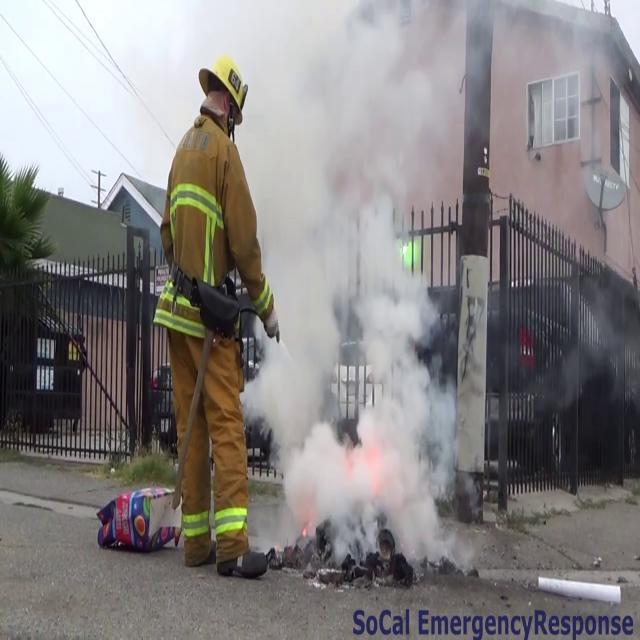Smoke: (244, 3, 464, 574)
